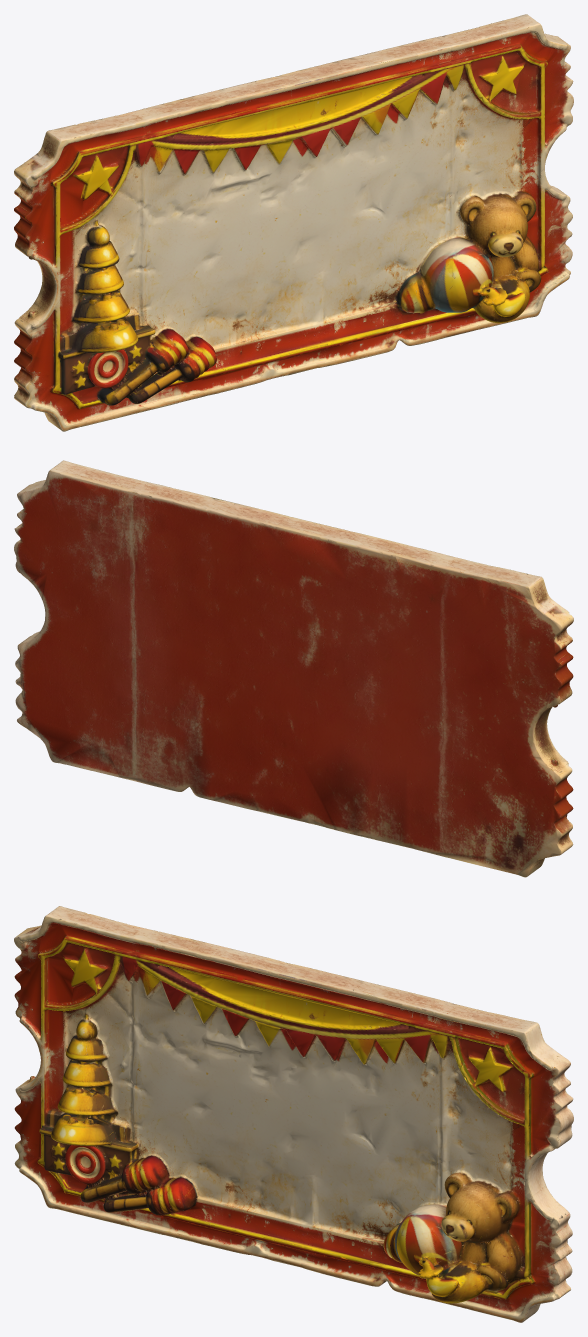
File: Meshy_AI_Vintage_Circus_Toy_Ba_0515201205_texture.fbx
3 views of the same model, one above another, from view 1: azimuth 30°, elevation 25°; view 2: azimuth 150°, elevation 25°; view 3: azimuth 330°, elevation 25° (orthographic).
Visible parts, largest first — view 1: Mesh_0; view 2: Mesh_0; view 3: Mesh_0.
Part boxes in pixels (x1,y1,x2,y2): Mesh_0: (14, 14, 573, 431); Mesh_0: (14, 460, 573, 877); Mesh_0: (14, 906, 573, 1322).
Size of the model in its own units: 191 by 97.17 by 26.85.
Materials: 1 (1 with a texture image).
